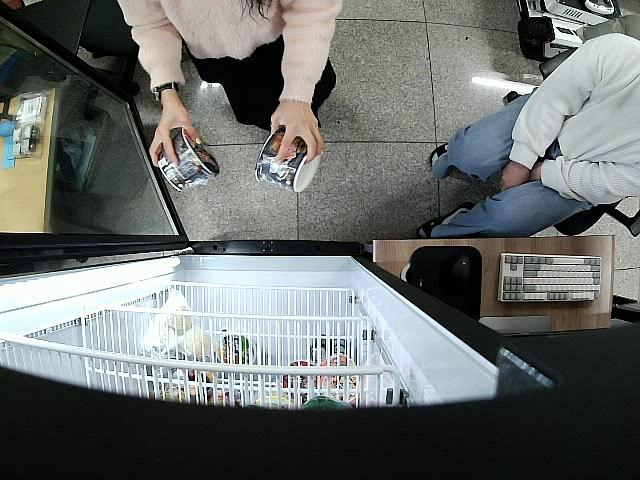00_hand: (145, 105, 203, 167), (269, 112, 321, 164)
07_buldak_L: (149, 124, 222, 193), (255, 127, 320, 191)
